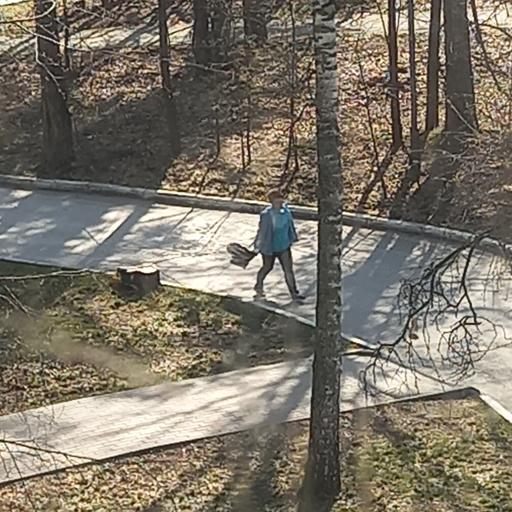Humans: (249, 189, 307, 308)
